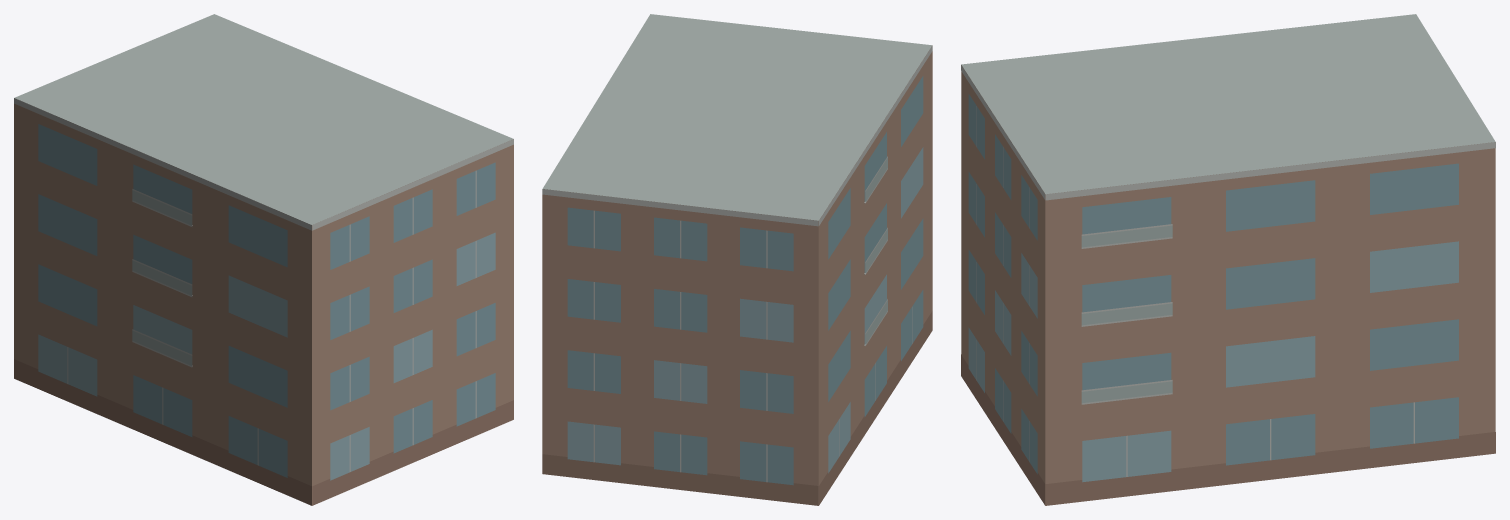
Rendered from survey-upis-32721327.glb.
3 renders of one model, left to right at view 1: azimuth 30°, elevation 25°; view 2: azimuth 150°, elevation 25°; view 3: azimuth 270°, elevation 25°, orthographic. The views are drawn at different scales.
Visible parts, largest first — view 1: survey-upis-32721327.tmp; view 2: survey-upis-32721327.tmp; view 3: survey-upis-32721327.tmp.
Part boxes in pixels (x1,y1,x2,y2): survey-upis-32721327.tmp: (14, 14, 513, 505); survey-upis-32721327.tmp: (542, 14, 932, 505); survey-upis-32721327.tmp: (961, 14, 1495, 505).
Size of the model in its own units: 15.15 by 12.2 by 18.98.
